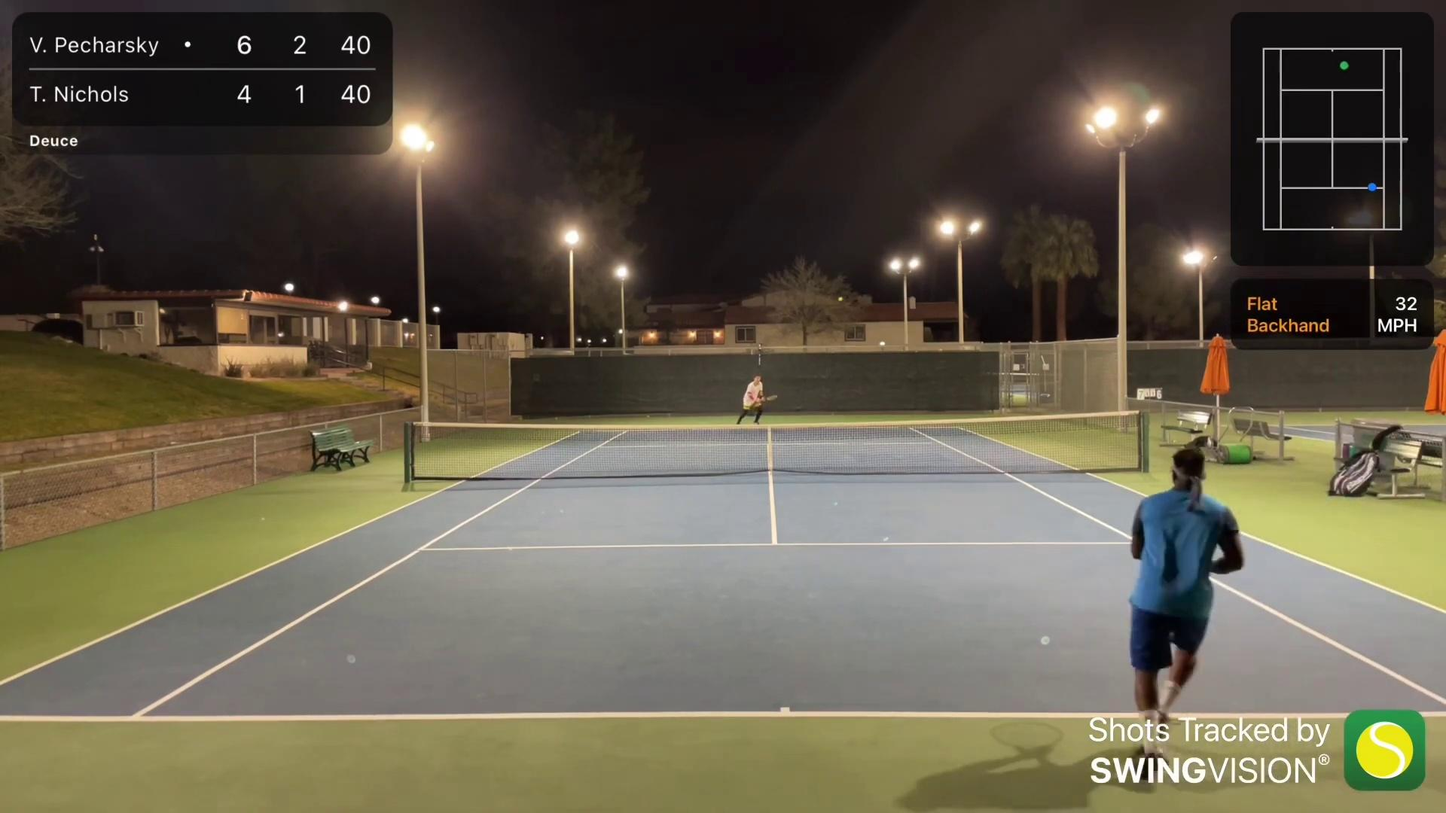ball: (837, 295, 844, 302)
